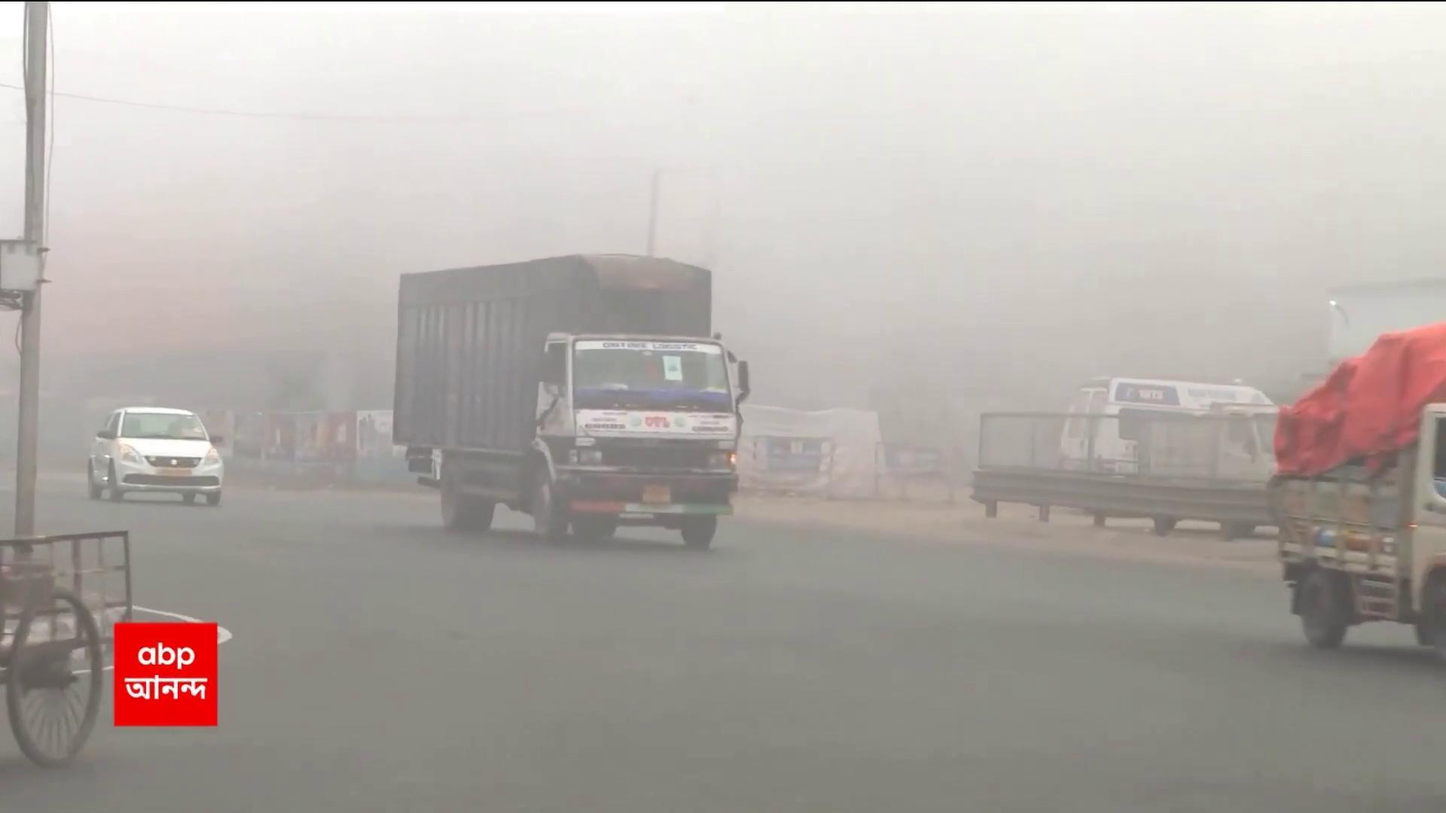Car: (85, 403, 225, 508)
Truck: (386, 247, 749, 542)
